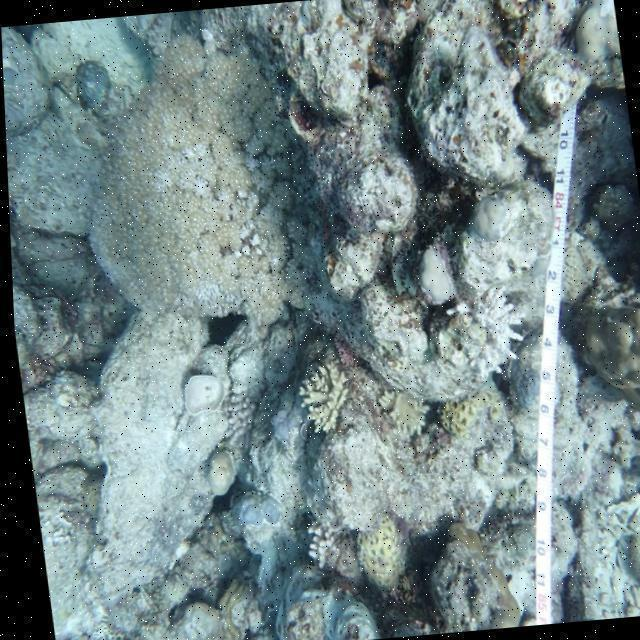Bleached Coral: (418, 256, 541, 387), (291, 504, 337, 589)
